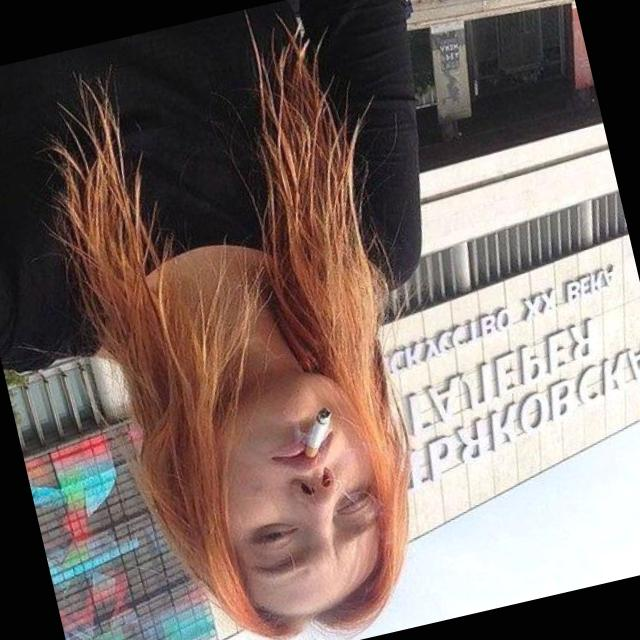cigarette: (290, 394, 346, 472)
